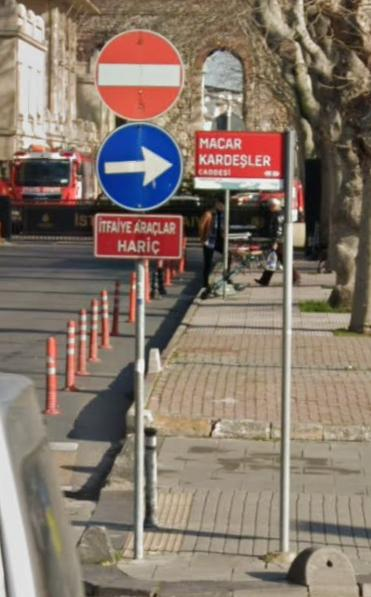turnright: (96, 123, 183, 208)
